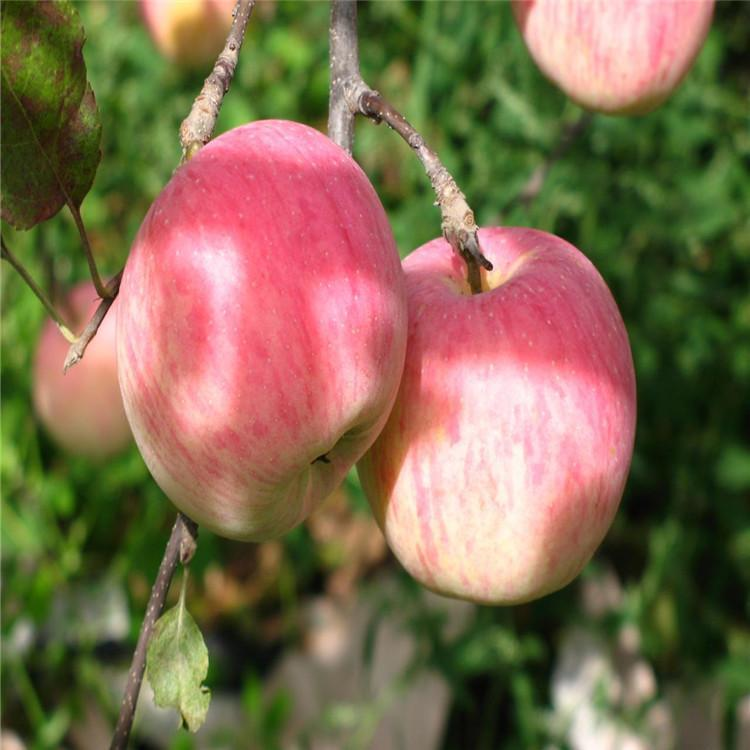apple: (114, 116, 407, 543), (363, 226, 635, 609), (509, 1, 716, 115)
